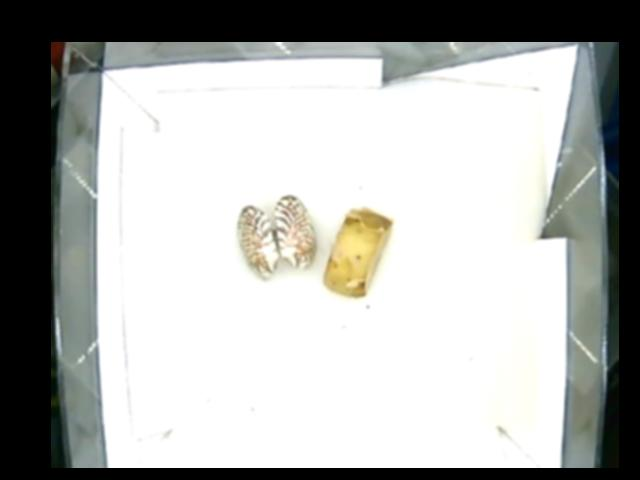Potato: (327, 207, 394, 300)
Shell: (237, 195, 316, 279)
